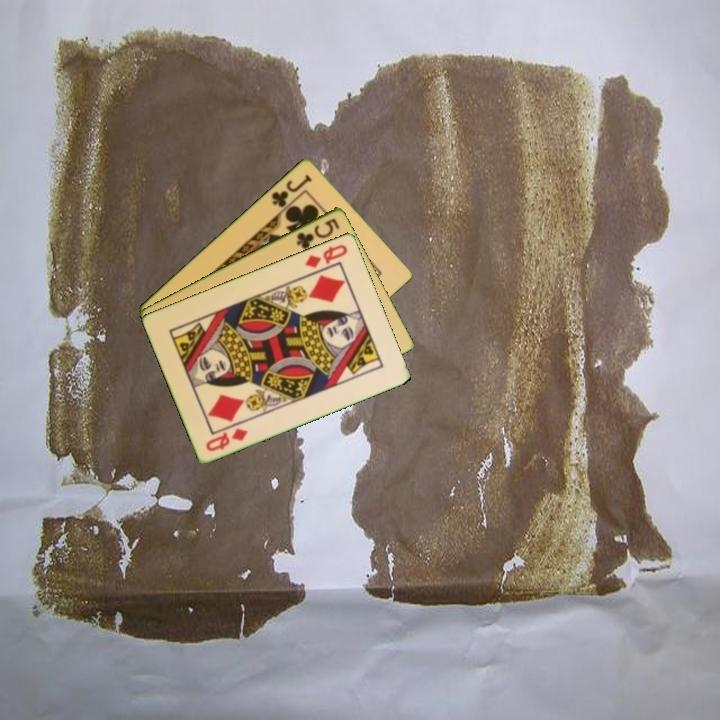5c: (292, 214, 343, 252)
Jc: (268, 170, 315, 210)
Qd: (301, 240, 351, 271), (202, 424, 251, 454)
